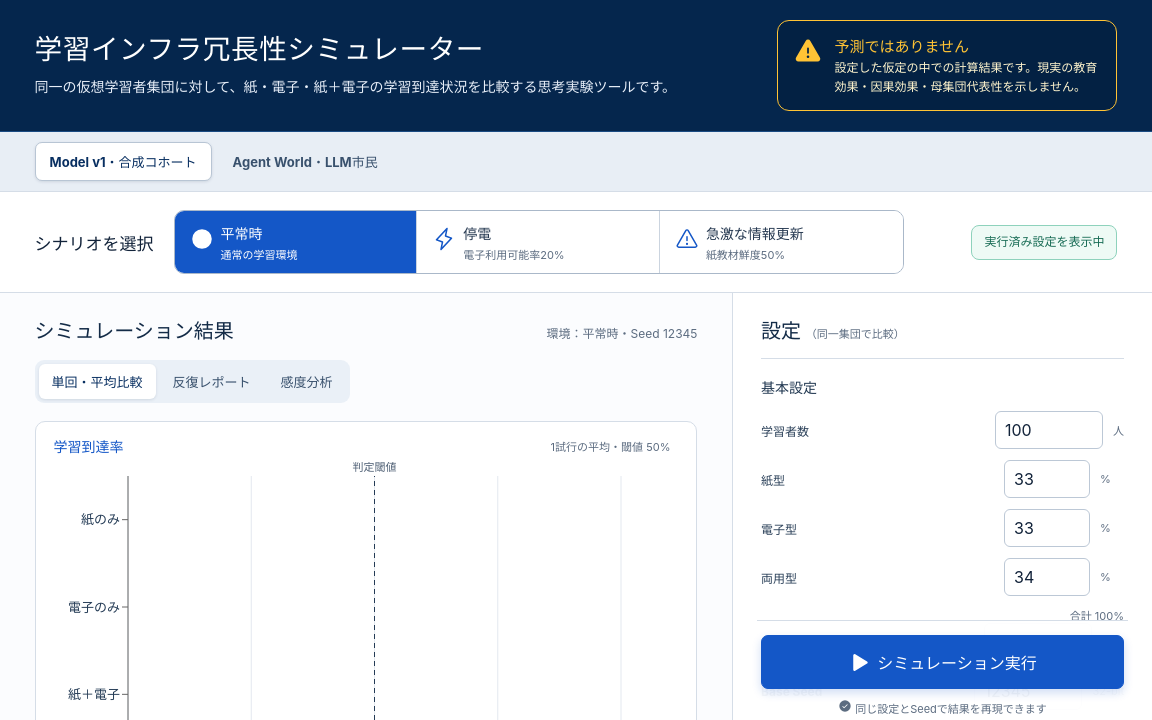
App › marks results stale after changing a scenario
Step 1. Click the button "停電 電子利用可能率20%" → (539,242), box 417,211 -> 660,273
(page scrolled)
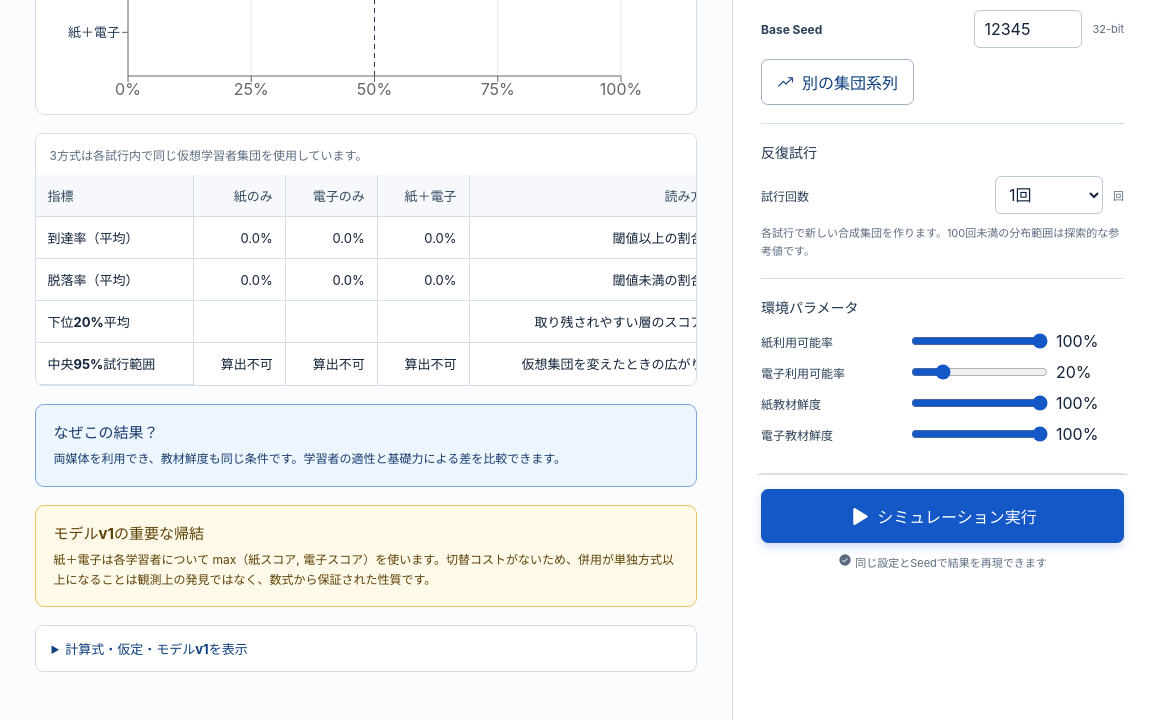
Check: the slider labelled "電子利用可能率" holds "0.2", box 910,364 -> 1048,380
